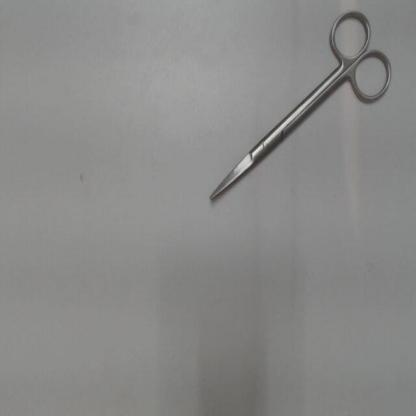Curved Mayo Scissors: (203, 7, 396, 210)
